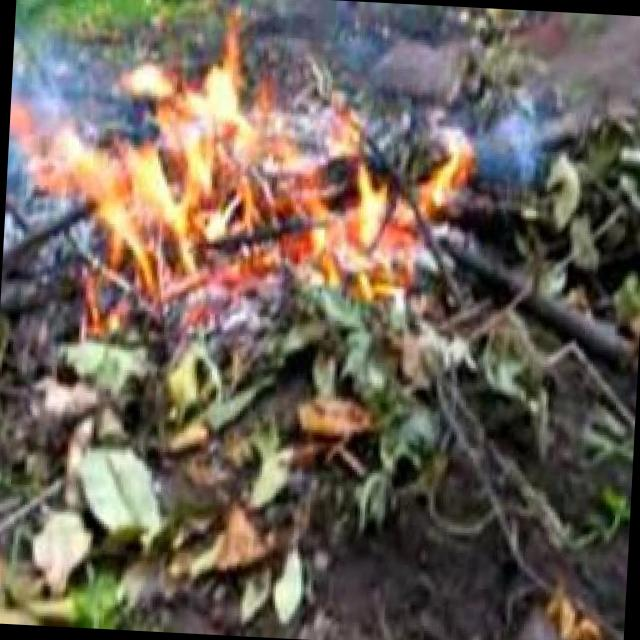Fire: (0, 0, 482, 368)
